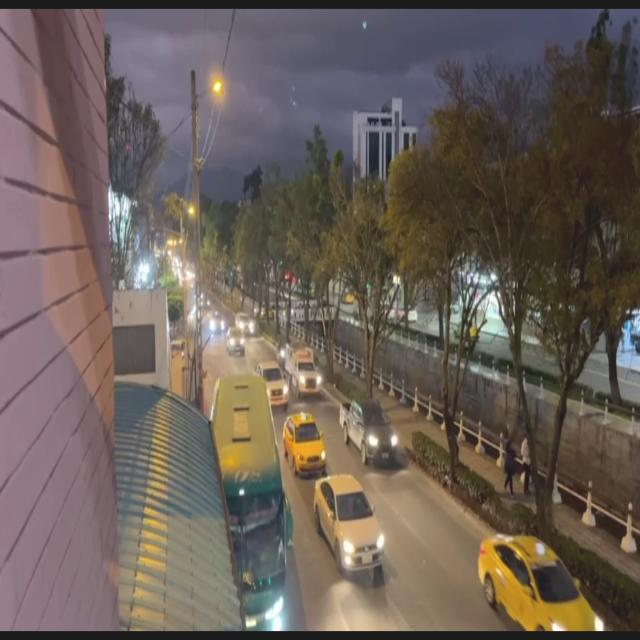CMT: (341, 400, 397, 463), (286, 344, 322, 398), (259, 362, 289, 410)
